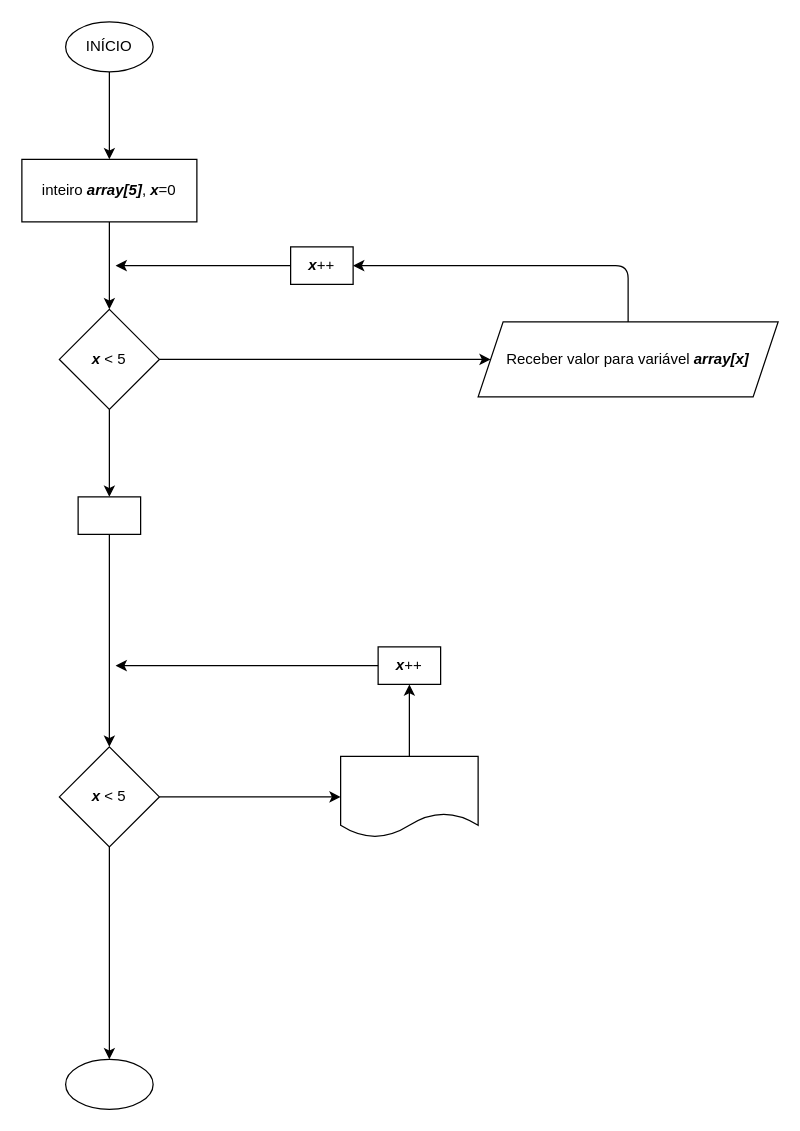
The diagram is 800 pixels wide and 1131 high, and some of its shapes have lost their labels. The shapes that lost their labels are listed below. From the top down, each one's centre as x and y in pixels, then its label:
At (109,515): "x = 0".
At (408,796): "Mostra array[x]".
At (108,1083): "FIM".
